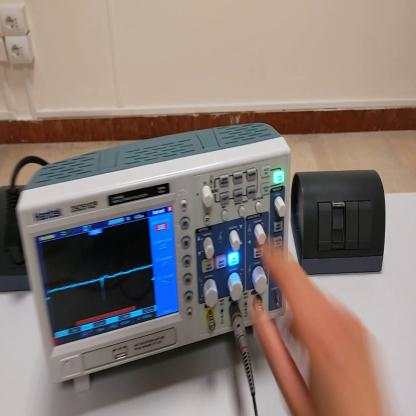hand: (246, 243, 393, 407)
oscilloscope: (10, 121, 291, 400)
socket: (2, 186, 34, 294)
